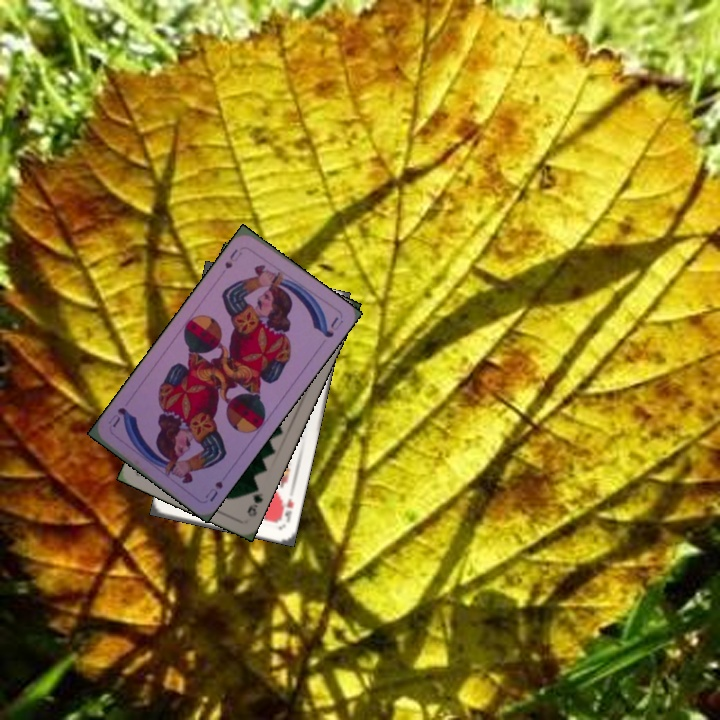G9: (243, 480, 265, 520)
HK: (281, 494, 297, 526)
SU: (201, 477, 226, 505), (221, 245, 245, 271)
